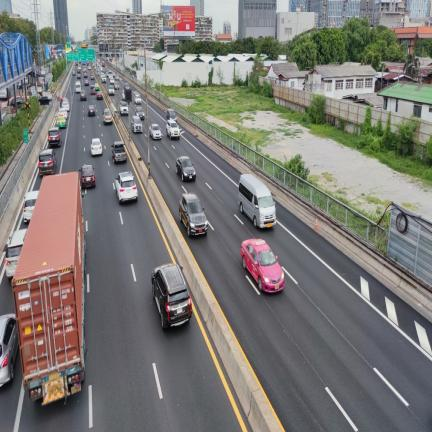car: (152, 263, 192, 329), (0, 314, 18, 386), (179, 193, 208, 236), (5, 229, 26, 278), (115, 172, 137, 203), (176, 156, 195, 181), (23, 191, 38, 222), (79, 164, 95, 187), (166, 120, 179, 139), (90, 139, 102, 155), (131, 116, 142, 133), (150, 124, 161, 139), (103, 109, 112, 124), (135, 107, 145, 120), (119, 101, 128, 115), (58, 107, 67, 119), (62, 100, 70, 112), (88, 105, 95, 116), (61, 97, 69, 106), (134, 94, 141, 103), (80, 91, 86, 100), (90, 86, 96, 94), (94, 83, 100, 91), (97, 91, 103, 99), (84, 80, 89, 85), (90, 74, 94, 79), (84, 72, 87, 77)
pickup: (112, 142, 126, 163)
taxi: (241, 239, 284, 292), (56, 115, 66, 128), (94, 83, 100, 91)
truck: (12, 172, 85, 404)
van: (238, 174, 275, 227), (38, 149, 56, 175), (48, 127, 61, 146), (166, 109, 177, 122), (76, 83, 81, 92)
